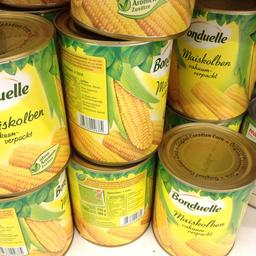corn: (54, 10, 167, 164), (0, 12, 71, 196), (156, 120, 254, 253), (170, 5, 255, 120), (64, 153, 153, 247), (0, 167, 73, 255)
